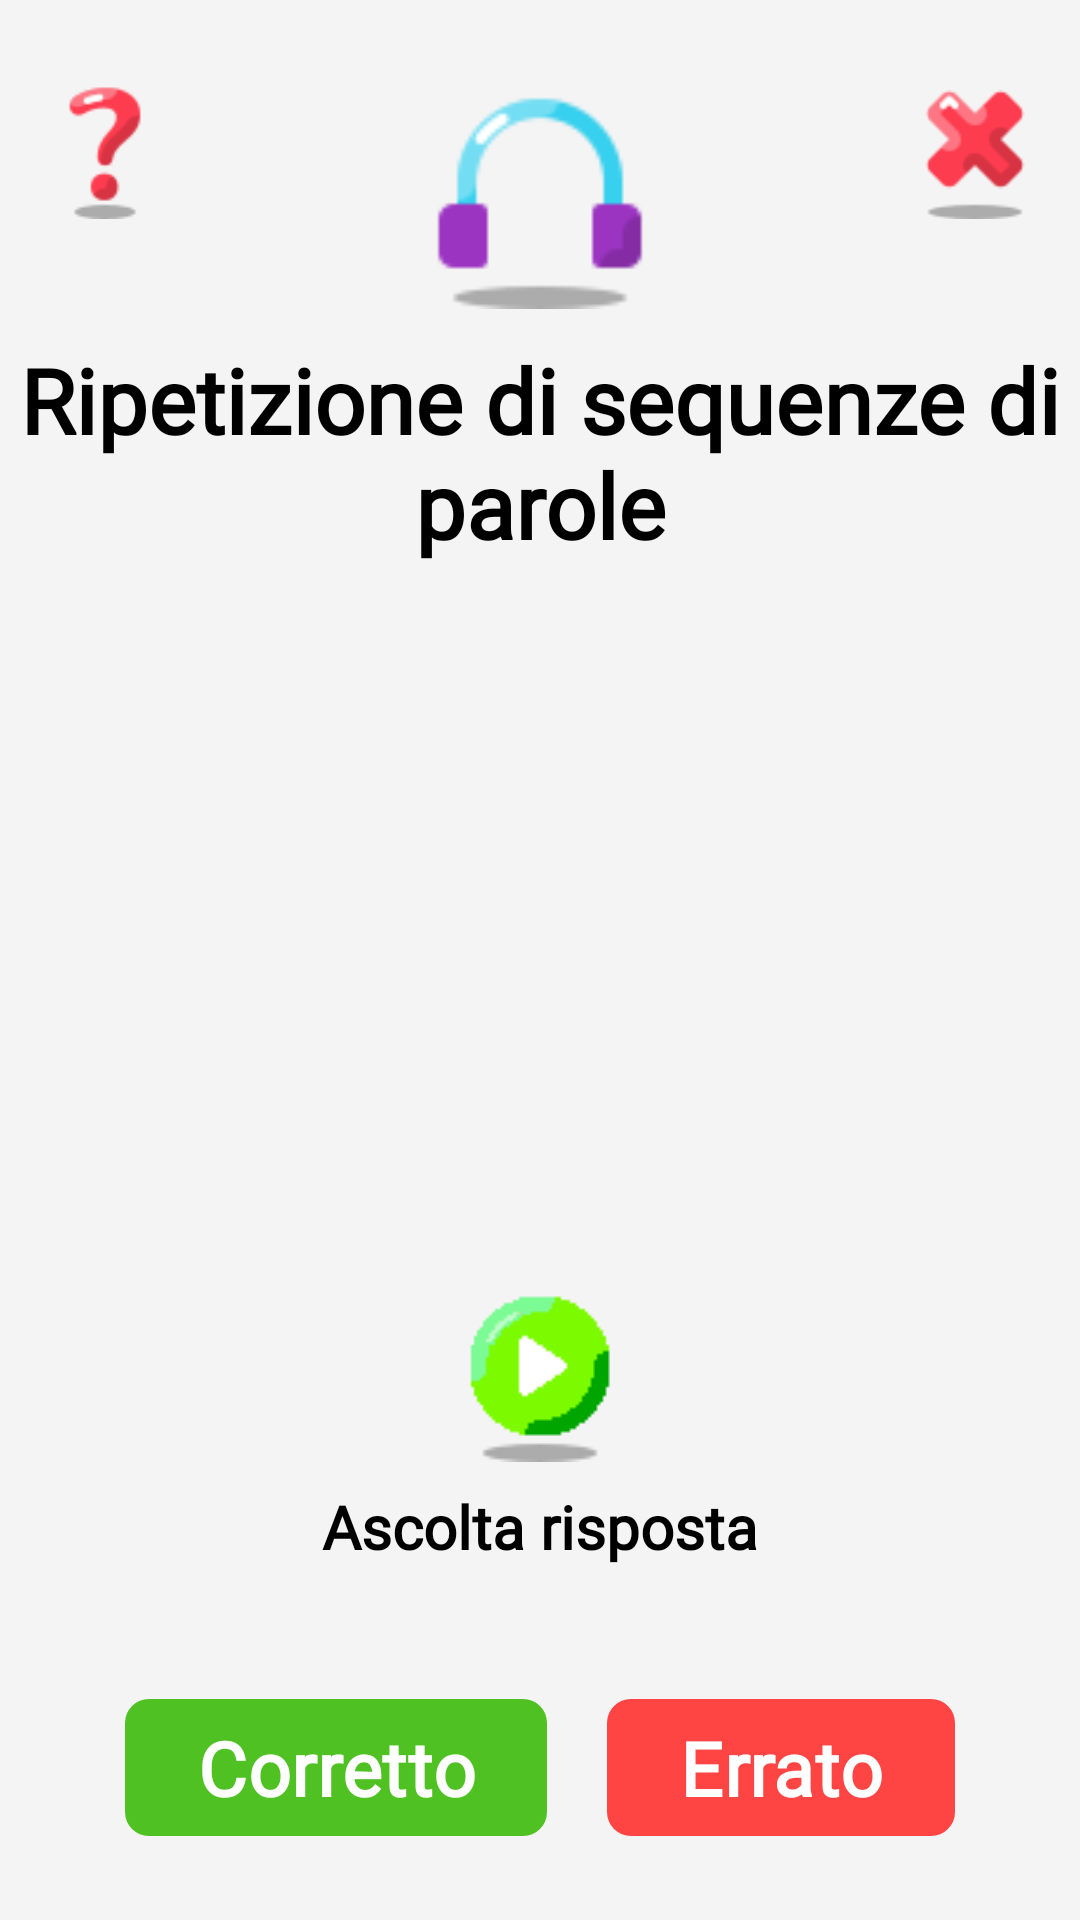

Screen size 1080w x 1920h. Icon name, then its box in pixels as (x1, y1, x2, y2):
exit: (926, 91, 1024, 219)
help: (69, 87, 141, 219)
listen audio: (437, 98, 643, 309)
play: (470, 1296, 610, 1462)
